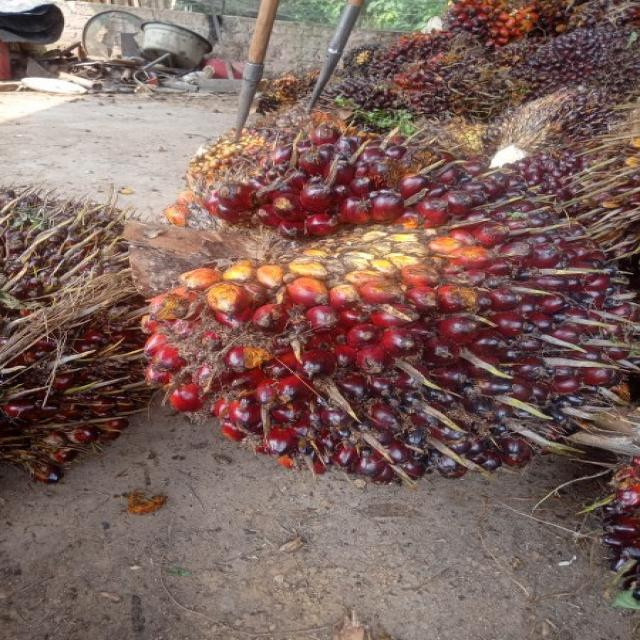fraksi 1: (101, 76, 640, 591)
